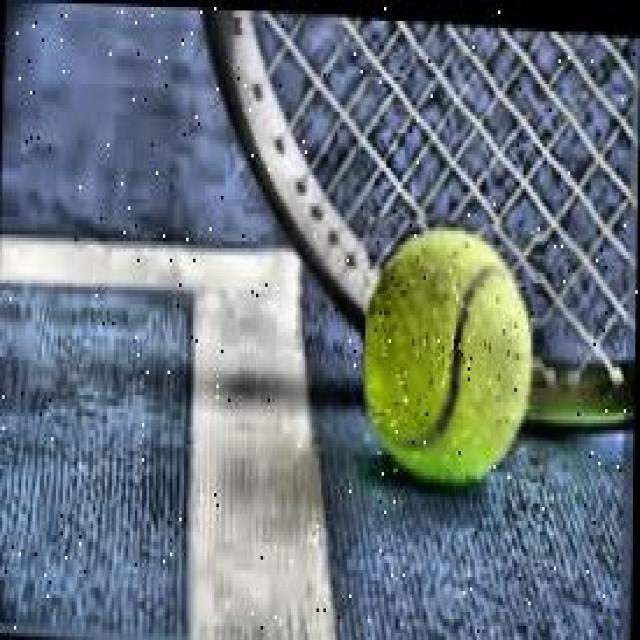tennis-ball: (363, 210, 545, 494)
